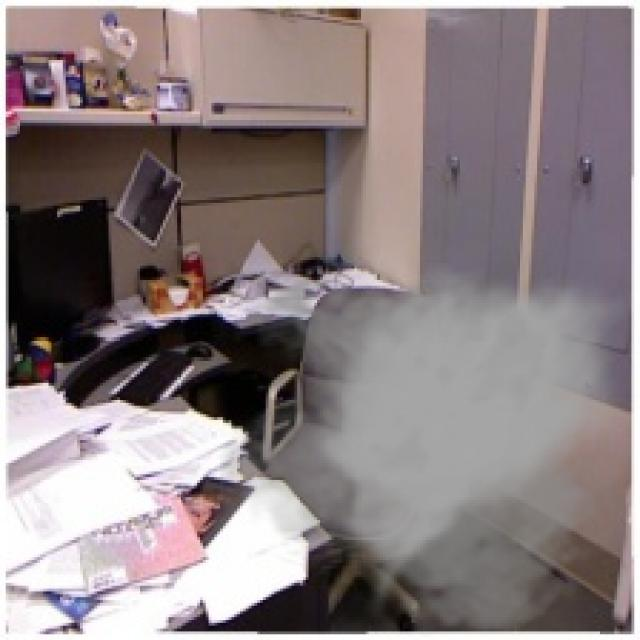smoke: (220, 263, 631, 637)
